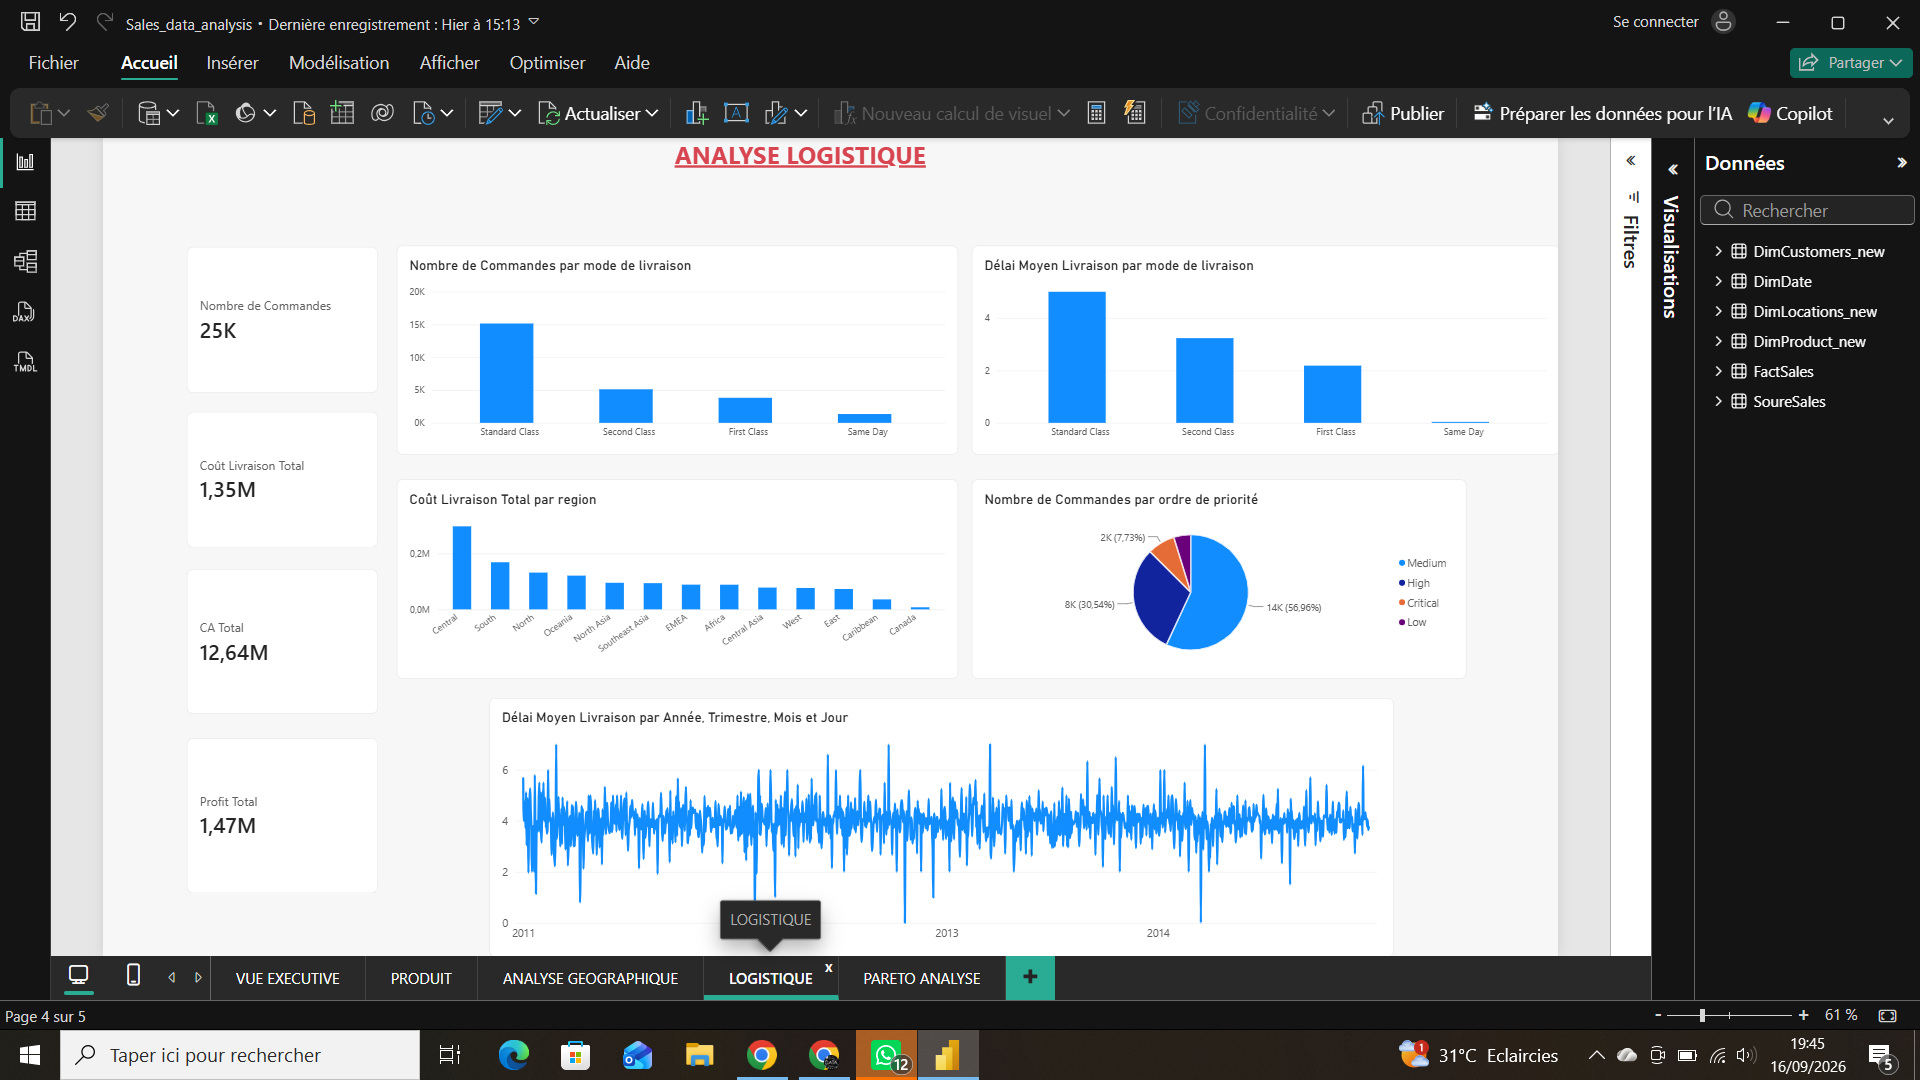

Layout of this report page (visuals, bound fields, positions):
{"tool":"powerbi","page":{"name":"LOGISTIQUE","canvas":[1920,1080],"ordinal":3},"visuals":[{"type":"textbox","box":[638.4,0,563.4,106.4],"z":0},{"type":"cardVisual","fields":{"Data":["FactSales.CA Total"]},"box":[109.9,568.6,252.9,191.9],"z":1000},{"type":"cardVisual","fields":{"Data":["FactSales.Profit Total"]},"box":[109.9,791.9,252.9,205.8],"z":2000},{"type":"cardVisual","fields":{"Data":["FactSales.Nombre de Commandes"]},"box":[109.9,143,252.9,193.6],"z":3000},{"type":"cardVisual","fields":{"Data":["FactSales.Coût Livraison Total"]},"box":[109.9,361,252.9,179.7],"z":4000},{"type":"clusteredColumnChart","title":"Nombre de Commandes par mode de livraison","fields":{"Y":["FactSales.Nombre de Commandes"],"Category":["FactSales.ship_mode"]},"box":[387,142,741,275.8],"z":5000},{"type":"clusteredColumnChart","title":"Délai Moyen Livraison par mode de livraison","fields":{"Category":["FactSales.ship_mode"],"Y":["FactSales.Délai Moyen Livraison"]},"box":[1146.5,142,776,275.8],"z":6000},{"type":"clusteredColumnChart","fields":{"Y":["FactSales.Coût Livraison Total"],"Category":["DimLocations_new.region"]},"box":[387,450.8,741,263.5],"z":7000},{"type":"pieChart","title":"Nombre de Commandes par ordre de priorité","fields":{"Category":["FactSales.order_priority"],"Y":["FactSales.Nombre de Commandes"]},"box":[1146.5,450.8,652.5,263.5],"z":8000},{"type":"lineChart","fields":{"Y":["FactSales.Délai Moyen Livraison"],"Category":["DimDate.Date.Variation.Hiérarchie de dates.Année","DimDate.Date.Variation.Hiérarchie de dates.Trimestre","DimDate.Date.Variation.Hiérarchie de dates.Mois","DimDate.Date.Variation.Hiérarchie de dates.Jour"]},"box":[510.5,738.9,1193.8,341.7],"z":9000}]}

Visuals, with their boxes on the page's 1920x1080 design canvas (x1, y1, x2, y2). These are canvas units, not pixel positions in the 1920x1080 screenshot, which may show the page scaled, cropped or inside an application window:
textbox: x1=638, y1=0, x2=1202, y2=106
cardVisual - FactSales.CA Total: x1=110, y1=569, x2=363, y2=760
cardVisual - FactSales.Profit Total: x1=110, y1=792, x2=363, y2=998
cardVisual - FactSales.Nombre de Commandes: x1=110, y1=143, x2=363, y2=337
cardVisual - FactSales.Coût Livraison Total: x1=110, y1=361, x2=363, y2=541
"Nombre de Commandes par mode de livraison" clusteredColumnChart: x1=387, y1=142, x2=1128, y2=418
"Délai Moyen Livraison par mode de livraison" clusteredColumnChart: x1=1146, y1=142, x2=1922, y2=418
clusteredColumnChart - FactSales.Coût Livraison Total x DimLocations_new.region: x1=387, y1=451, x2=1128, y2=714
"Nombre de Commandes par ordre de priorité" pieChart: x1=1146, y1=451, x2=1799, y2=714
lineChart - FactSales.Délai Moyen Livraison x DimDate.Date.Variation.Hiérarchie de dates.Année: x1=510, y1=739, x2=1704, y2=1081
